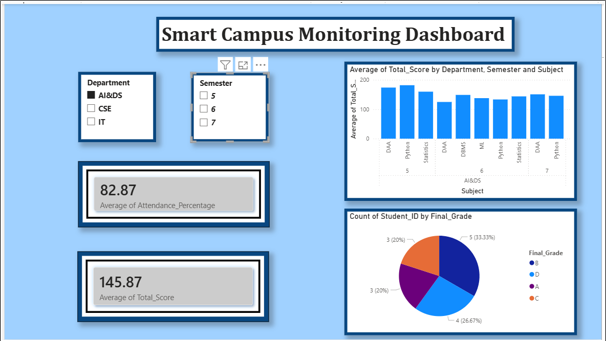

The page's visual inventory and layout, read from the dashboard file:
{"tool":"powerbi","page":{"name":"Page 1","canvas":[1280,720],"ordinal":0},"visuals":[{"type":"textbox","box":[325.2,27.4,768.4,75.5],"z":0},{"type":"cardVisual","fields":{"Data":["Avg(5 student_performance.Attendance_Percentage)"]},"box":[157.8,337.6,410.3,141.3],"z":1000},{"type":"cardVisual","fields":{"Data":["Avg(5 student_performance.Total_Score)"]},"box":[156.4,531,410.3,150.9],"z":2000},{"type":"slicer","fields":{"Values":["5 student_performance.Department"]},"box":[157.8,145.5,167.4,150.9],"z":3000},{"type":"slicer","fields":{"Values":["5 student_performance.Semester"]},"box":[399.3,146.8,167.4,149.6],"z":4000},{"type":"clusteredColumnChart","fields":{"Y":["Avg(5 student_performance.Total_Score)"],"Category":["5 student_performance.Department","5 student_performance.Semester","5 student_performance.Subject"]},"box":[728.6,123.5,499.5,299.1],"z":5000},{"type":"pieChart","fields":{"Category":["5 student_performance.Final_Grade"],"Y":["CountNonNull(5 student_performance.Student_ID)"]},"box":[728.6,439.1,499.5,271.7],"z":6000}]}

Visuals, with their boxes in screenshot pixels (x1, y1, x2, y2), scaled from the page's 1280x720 canvas onto the 607x341 screenshot:
textbox: bbox=[154, 13, 519, 49]
cardVisual - Avg(5 student_performance.Attendance_Percentage): bbox=[75, 160, 269, 227]
cardVisual - Avg(5 student_performance.Total_Score): bbox=[74, 251, 269, 323]
slicer - 5 student_performance.Department: bbox=[75, 69, 154, 140]
slicer - 5 student_performance.Semester: bbox=[189, 70, 269, 140]
clusteredColumnChart - Avg(5 student_performance.Total_Score) x 5 student_performance.Department: bbox=[346, 58, 582, 200]
pieChart - 5 student_performance.Final_Grade x CountNonNull(5 student_performance.Student_ID): bbox=[346, 208, 582, 337]
